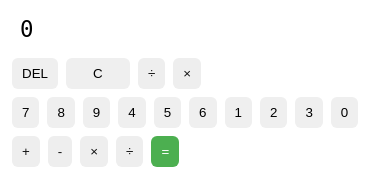
Test case: Calculator UI › digits appear on display when clicked and form numbers
The width and height of the screenshot is (375, 184).
Expected: the text with test id "display" reads "0", [20, 16, 34, 42]
Click the button "1" at (238, 112), box [224, 97, 252, 128]
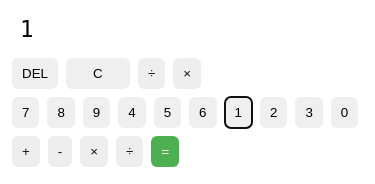
Result: the text with test id "display" reads "1" at [20, 16, 34, 42]
Click the button "1" at (238, 112), box [224, 97, 252, 128]
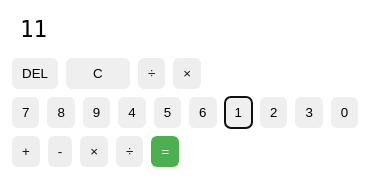
Result: the text with test id "display" reads "11" at [20, 16, 47, 42]
Click the button "2" at (274, 112), box [260, 97, 287, 128]
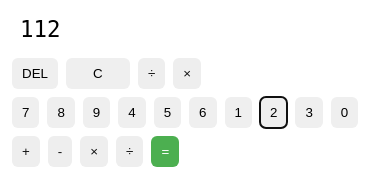
Result: the text with test id "display" reads "112" at [20, 16, 60, 42]
